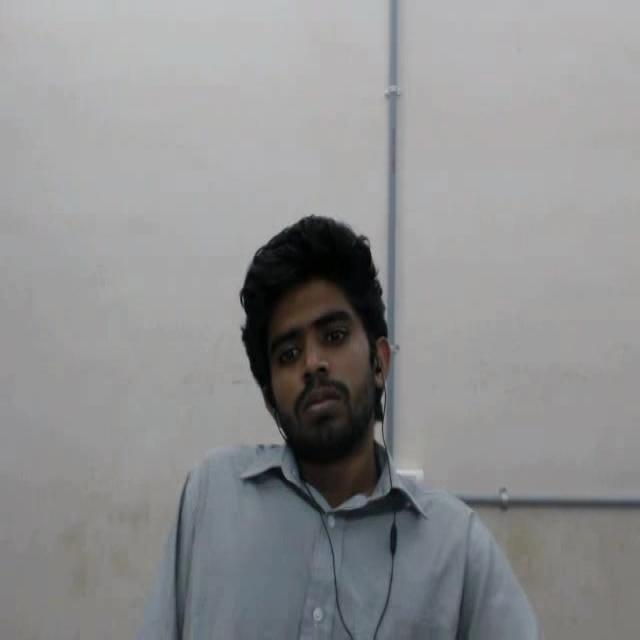Engaged: (228, 199, 432, 525)
